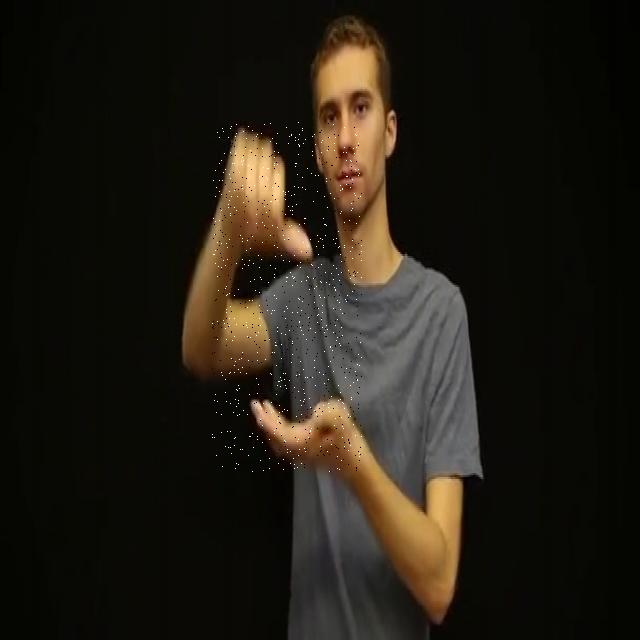sauce: (212, 122, 362, 472)
